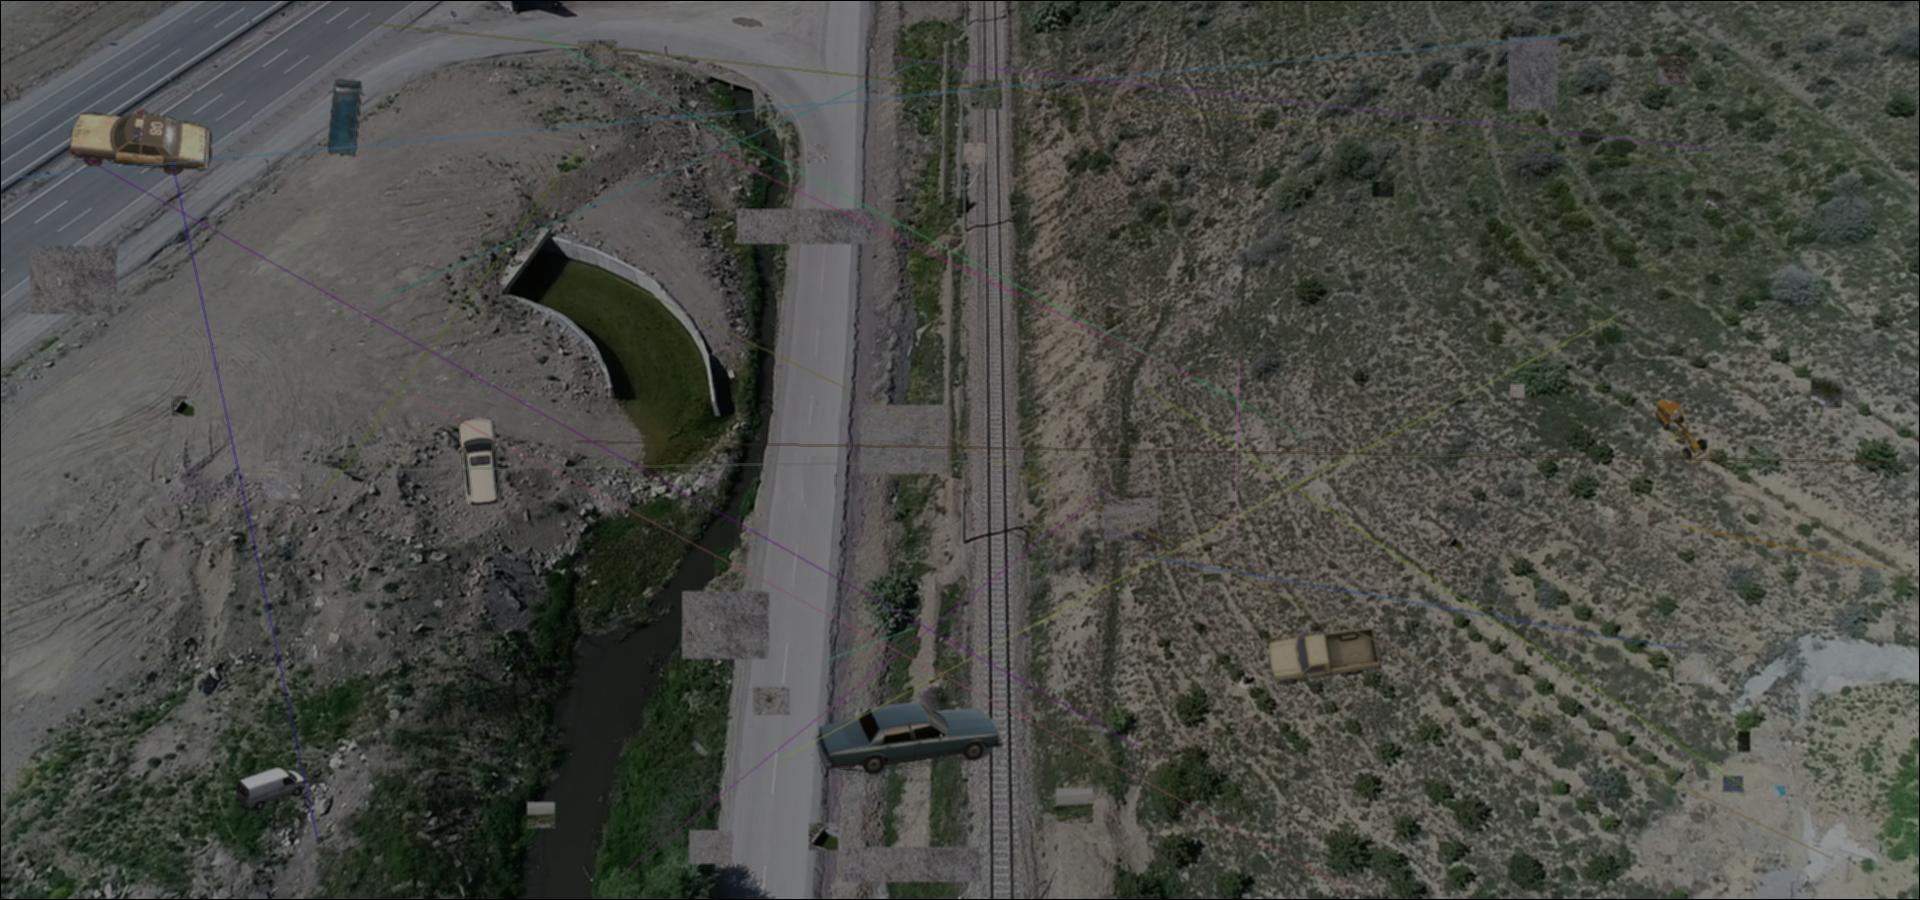arac: (812, 700, 1009, 775), (64, 103, 216, 185), (1269, 628, 1381, 687), (1652, 397, 1716, 468), (457, 418, 504, 504), (235, 767, 305, 811), (326, 78, 364, 157)
